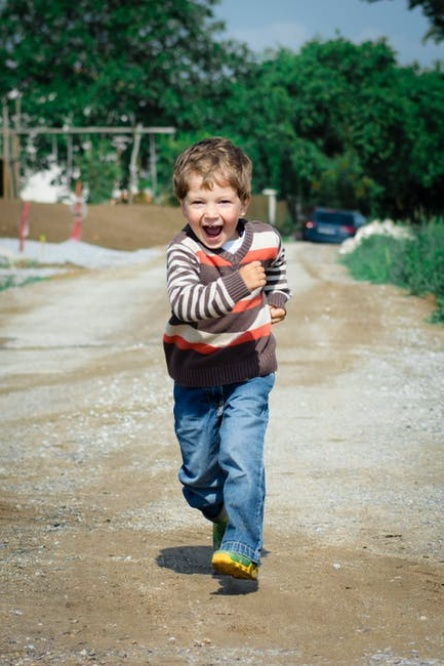face: (184, 177, 241, 249)
